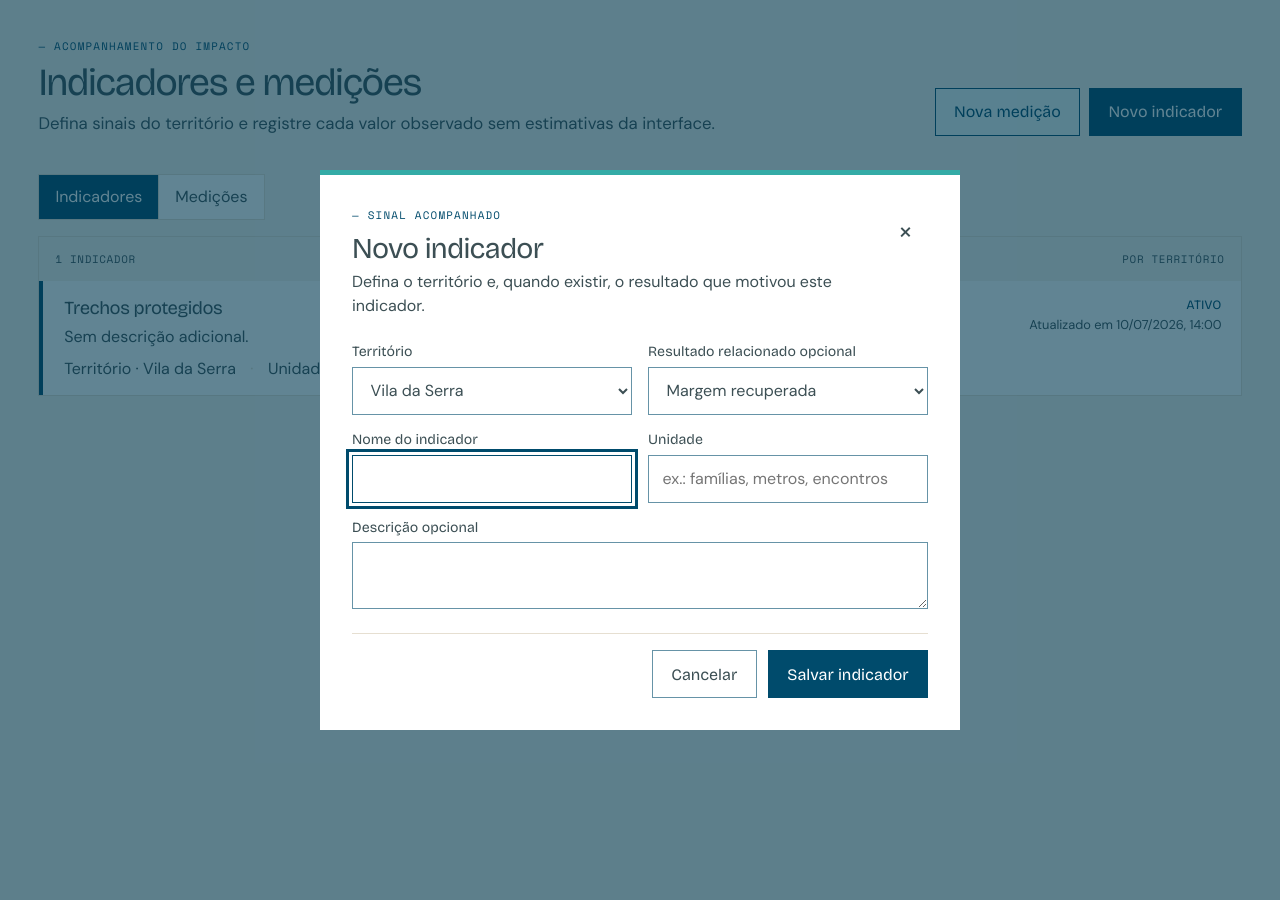
Test: ImpactoPage › creates an indicator with territory and optional result selected by name
Expected: the dialog "Novo indicador" is shown, [320,170,960,730]
Expected: the dropdown labelled "Território" shows "Vila da Serra", [352,367,632,415]
In the field labelled "Nome do indicador": (492,479) [352,455,632,503], type "Trechos protegidos"
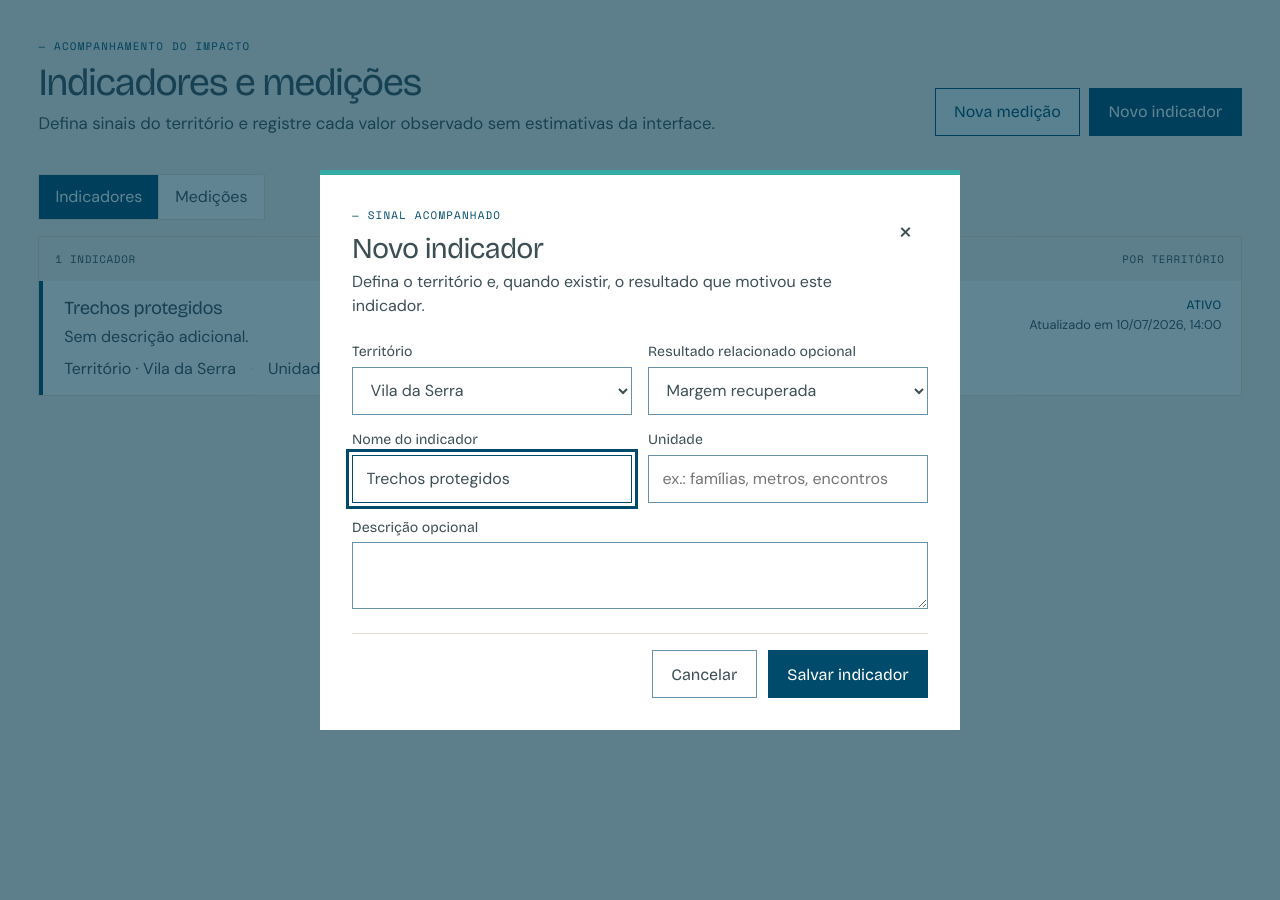
In the field labelled "Unidade": (788,479) [648,455,928,503], type "trechos"
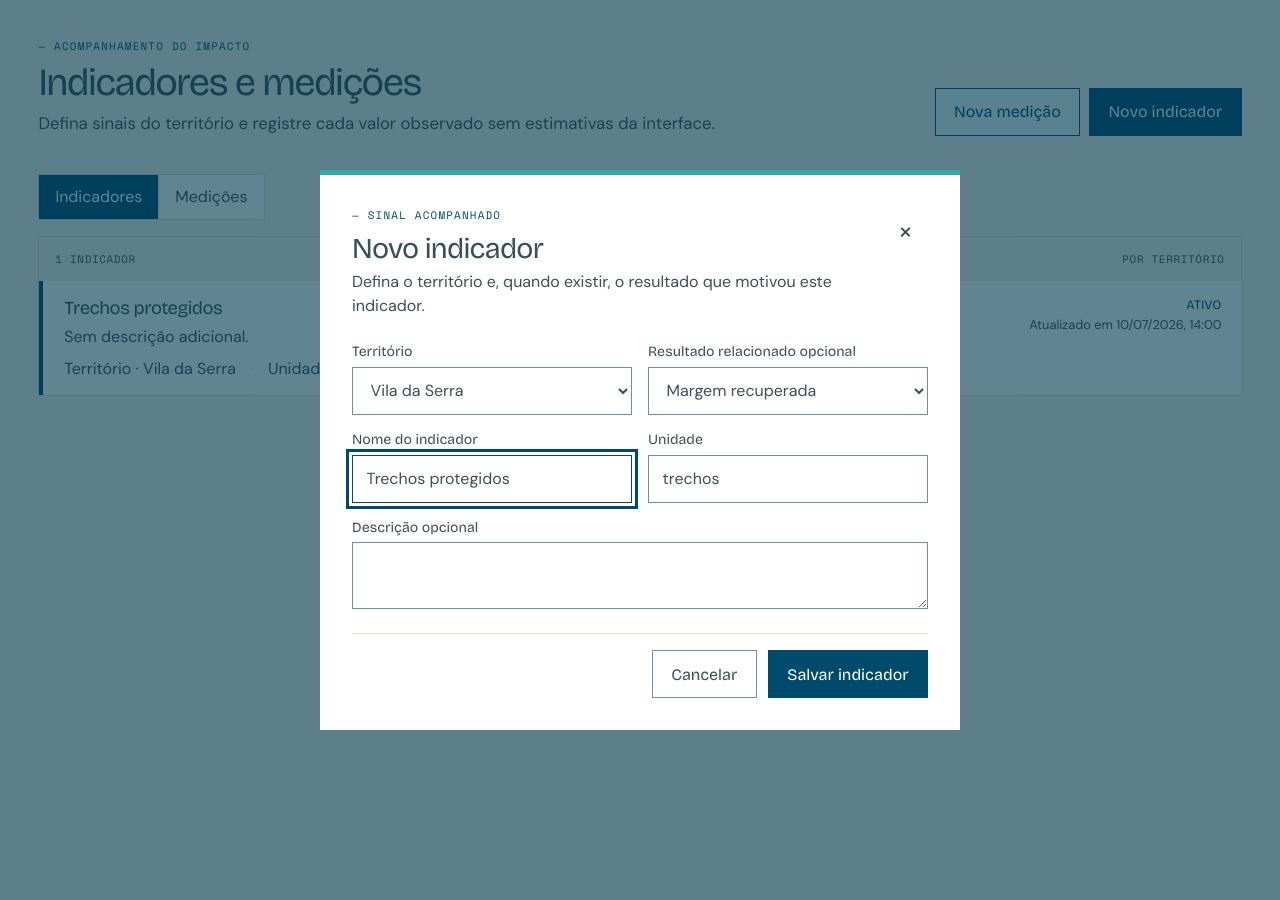
Click the button "Salvar indicador": (848,674) [768,650,928,698]
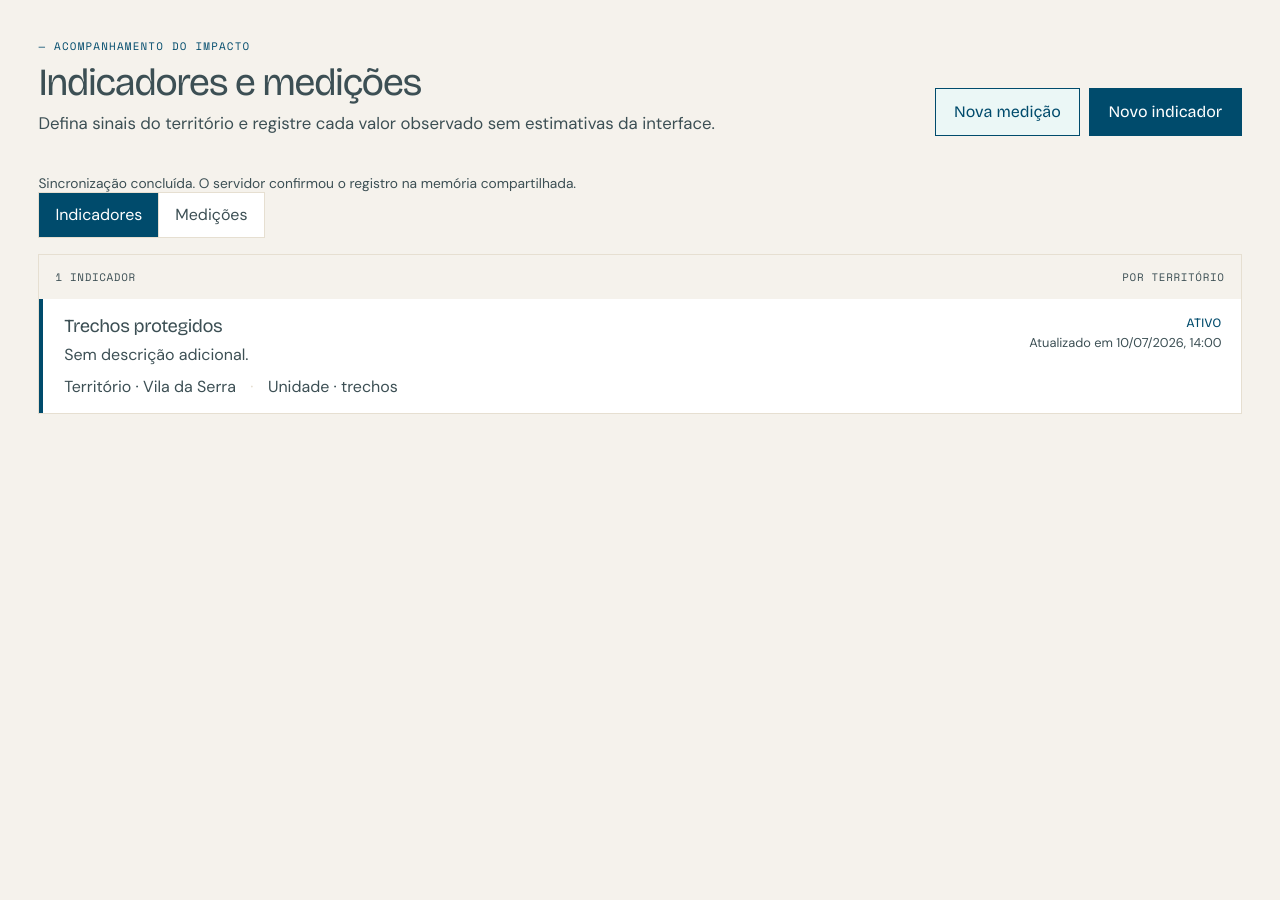
Now the message shows "Sincronização concluída", box [38,174,576,192]
